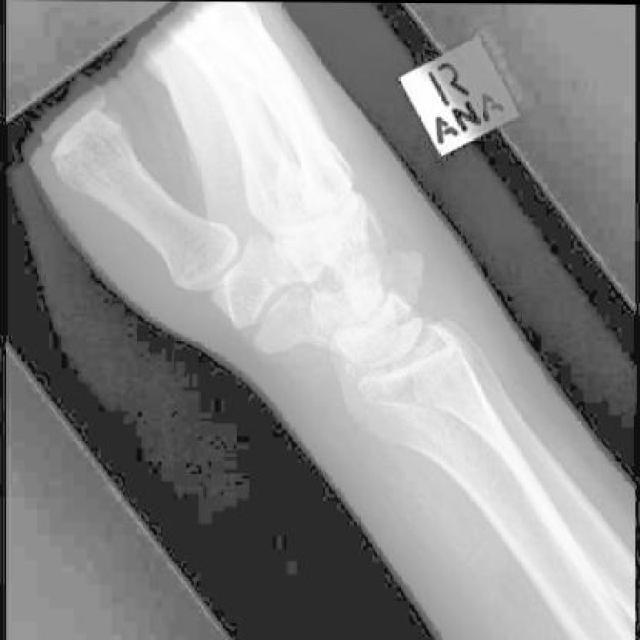Fracture: (382, 243, 428, 304)
